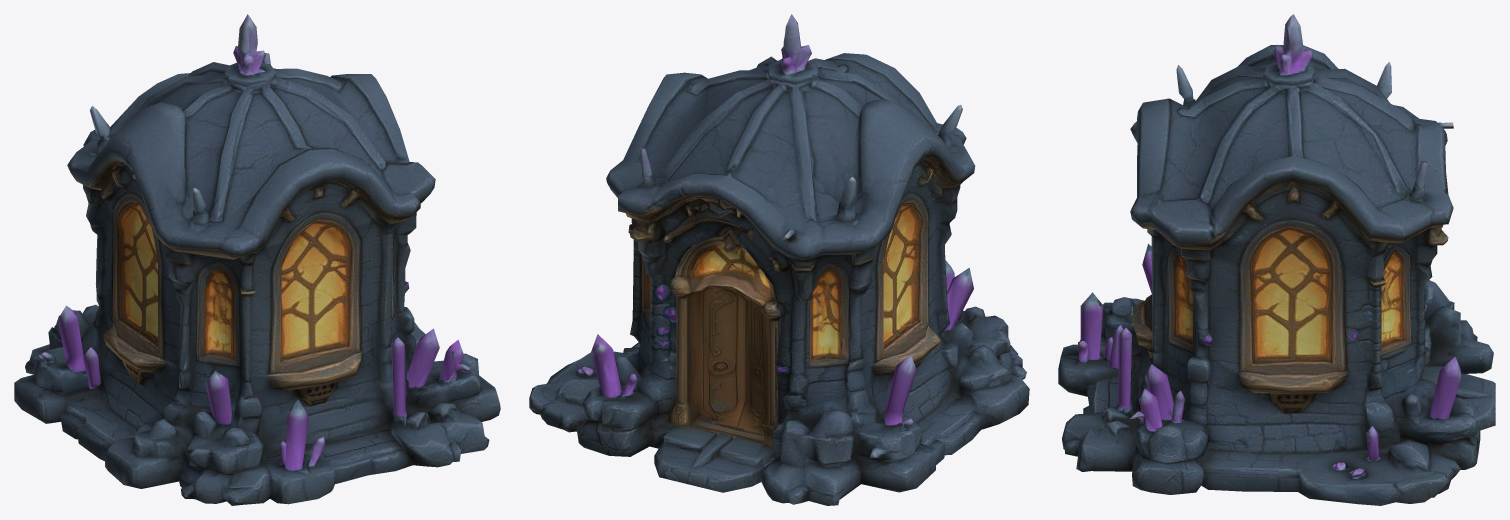
File: vorthak_nighthold.glb
3 views of the same model, side by side, from view 1: azimuth 30°, elevation 25°; view 2: azimuth 150°, elevation 25°; view 3: azimuth 270°, elevation 25° (orthographic).
Bounding box in the file's own units: 0.8 × 0.8 × 0.8.
Materials: 1 (1 with a texture image).
